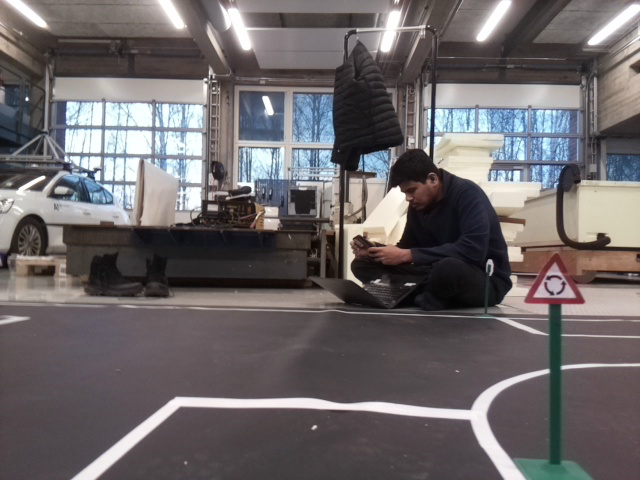Roundabout: (525, 256, 588, 301)
